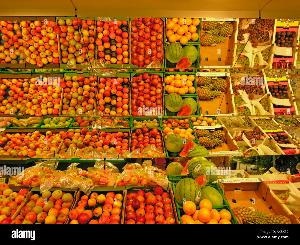apple: (20, 165, 166, 189), (12, 190, 74, 228), (122, 185, 172, 227), (95, 17, 130, 69), (58, 18, 94, 67), (132, 17, 164, 71), (20, 20, 58, 64), (74, 191, 120, 225), (0, 132, 60, 158), (94, 76, 130, 118), (26, 78, 62, 118), (132, 76, 164, 118), (63, 75, 94, 117), (1, 78, 30, 116), (0, 188, 28, 226), (95, 131, 129, 162), (60, 129, 97, 157), (132, 130, 164, 159), (0, 20, 20, 66), (41, 116, 73, 128), (162, 116, 192, 128), (72, 116, 98, 128)
grape: (238, 20, 272, 72), (230, 74, 272, 116), (224, 117, 266, 158)
orange: (176, 201, 236, 225), (166, 16, 200, 44), (166, 74, 196, 94)
pineapple: (227, 184, 299, 224), (200, 20, 238, 68), (196, 72, 234, 114), (196, 128, 236, 154)
watermelon: (169, 158, 223, 206), (165, 96, 199, 117)
